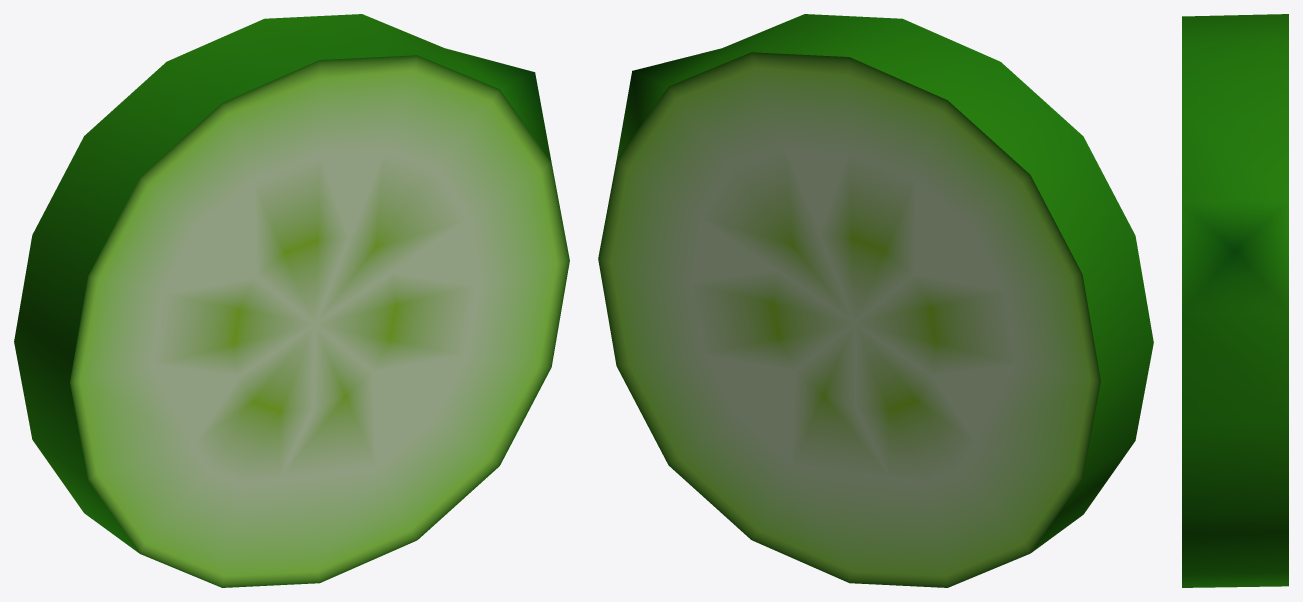
The model's file is Cucumber_Slice_10.fbx.
3 renders of one model, left to right at view 1: azimuth 30°, elevation 25°; view 2: azimuth 150°, elevation 25°; view 3: azimuth 270°, elevation 25°, orthographic.
Parts seen in each view (by area): view 1: Cucumber_Slice_10; view 2: Cucumber_Slice_10; view 3: Cucumber_Slice_10.
Boxes of the visible parts, x1,y1,x2,y2 form: Cucumber_Slice_10: (14, 14, 569, 587); Cucumber_Slice_10: (598, 14, 1153, 587); Cucumber_Slice_10: (1182, 14, 1288, 587).
Bounding box in the file's own units: 4.6 × 4.6 × 0.862.
